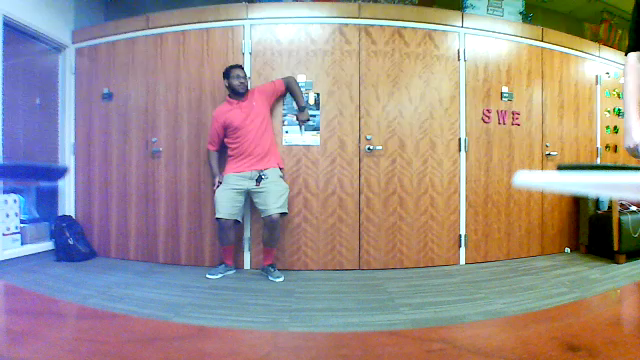down: (292, 103, 317, 142)
